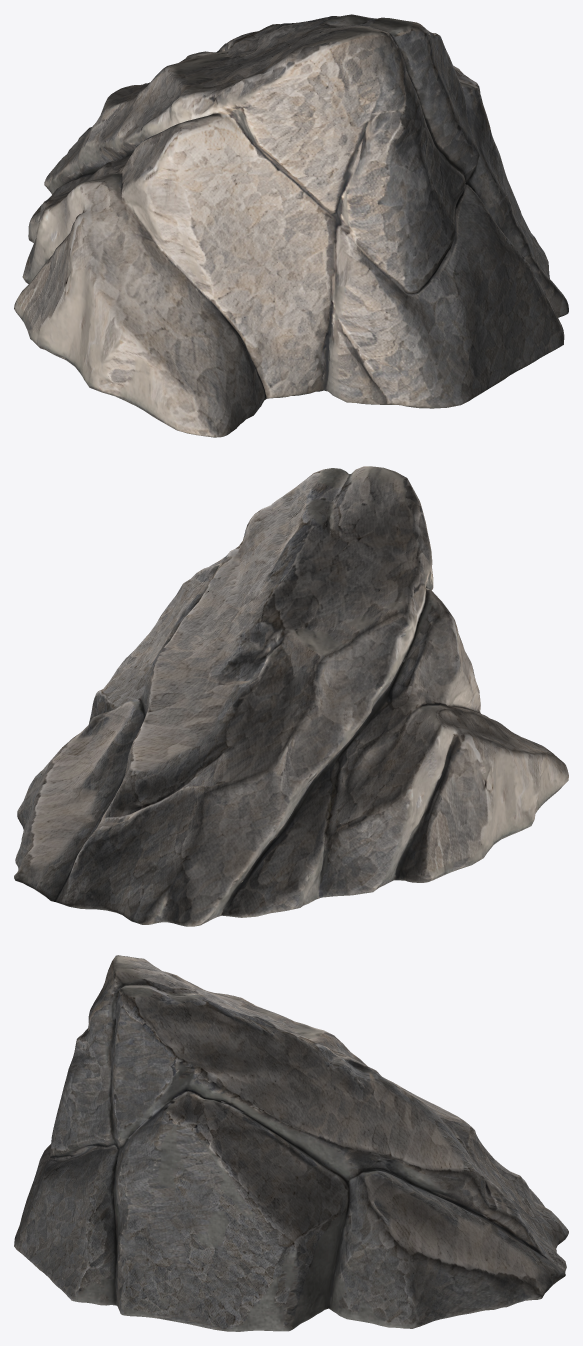
File: Rock4.fbx
3 renders of one model, top to bottom at view 1: azimuth 30°, elevation 25°; view 2: azimuth 150°, elevation 25°; view 3: azimuth 270°, elevation 25°, orthographic. The views are drawn at different scales.
Parts seen in each view (by area): view 1: tripo_node_02d96acd; view 2: tripo_node_02d96acd; view 3: tripo_node_02d96acd.
Boxes of the visible parts, x1,y1,x2,y2 form: tripo_node_02d96acd: (14, 14, 568, 437); tripo_node_02d96acd: (14, 466, 568, 926); tripo_node_02d96acd: (14, 955, 568, 1331).
Bounding box in the file's own units: 79.95 × 100 × 53.84.
